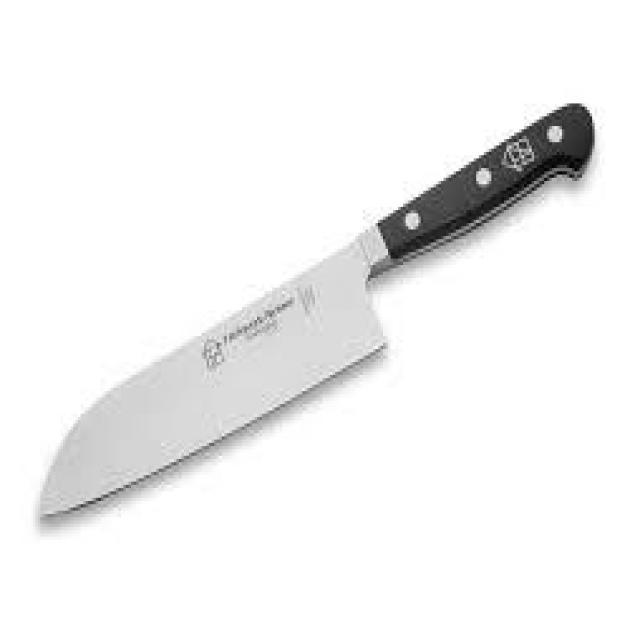Knife: (18, 86, 606, 542)
